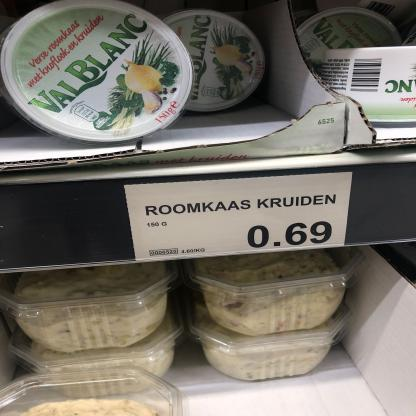prtg: (124, 173, 354, 262)
